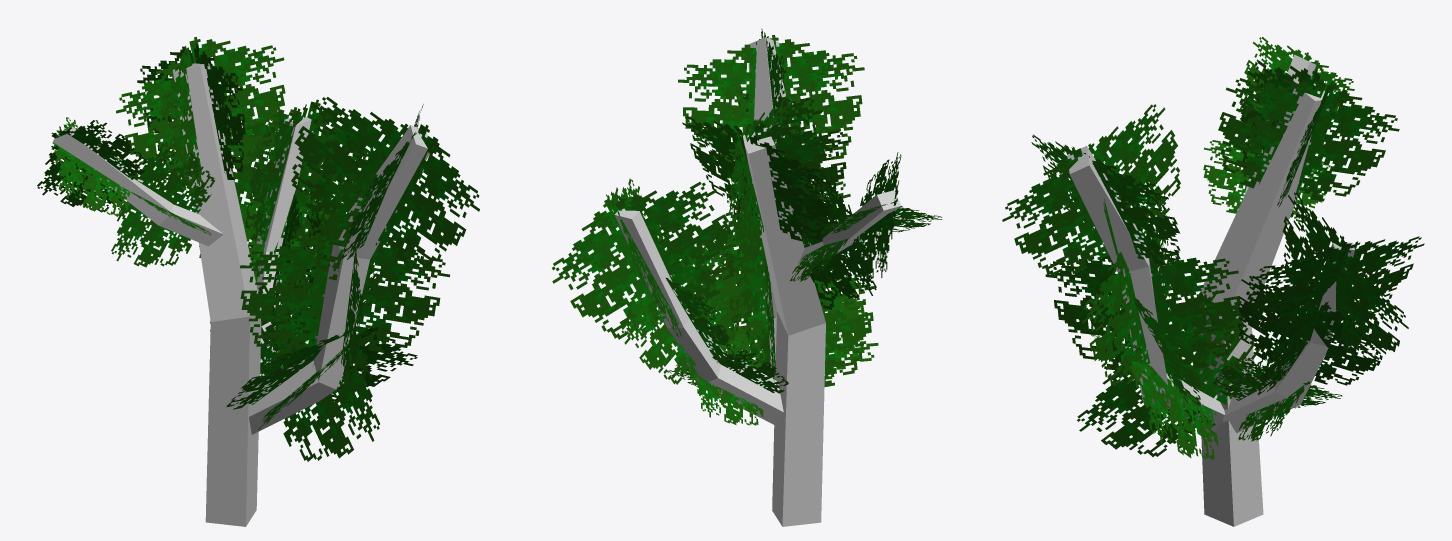
The model's file is bush.fbx.
3 views of the same model, side by side, from view 1: azimuth 30°, elevation 25°; view 2: azimuth 150°, elevation 25°; view 3: azimuth 270°, elevation 25° (orthographic). The views are drawn at different scales.
Parts seen in each view (by area): view 1: leafes; view 2: leafes; view 3: leafes.
Boxes of the visible parts, left/top/right/bottom form: leafes: left=37, top=37, right=479, bottom=526; leafes: left=552, top=28, right=942, bottom=526; leafes: left=1002, top=37, right=1424, bottom=526.
Bounding box in the file's own units: 49.19 × 59.78 × 52.01.
2 materials, 1 textured.
